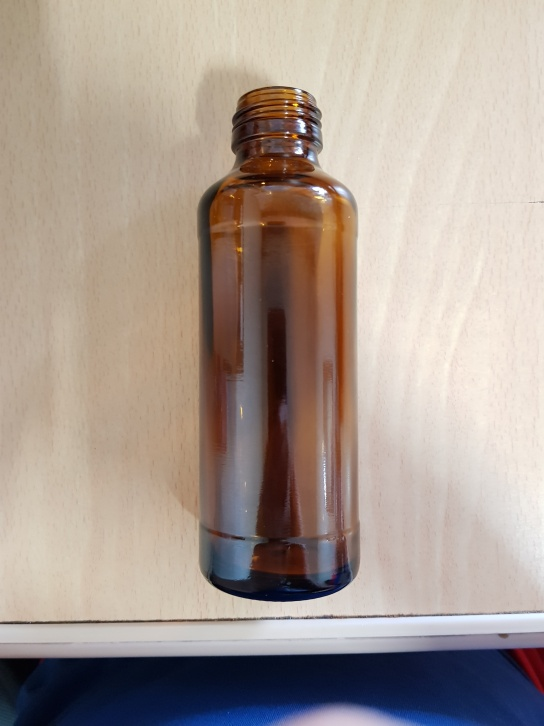Glass: (194, 83, 364, 600)
